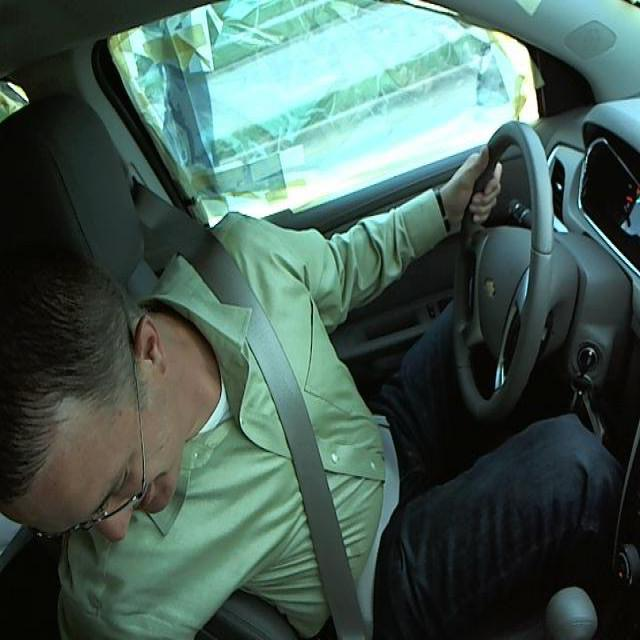seatbelt: (196, 264, 403, 608)
